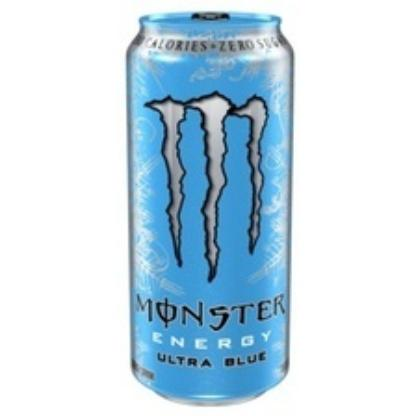Can: (124, 11, 294, 407)
